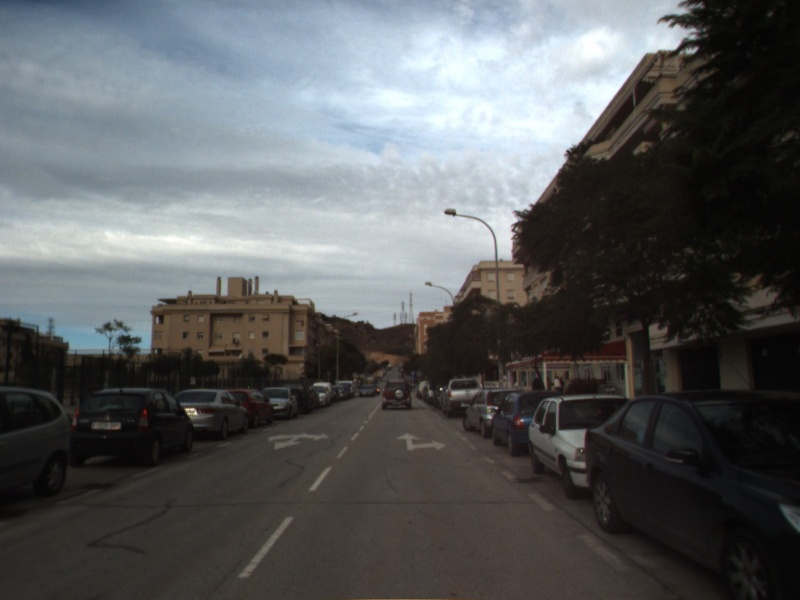STRAIGHT_RIGHT: (394, 430, 449, 453)
